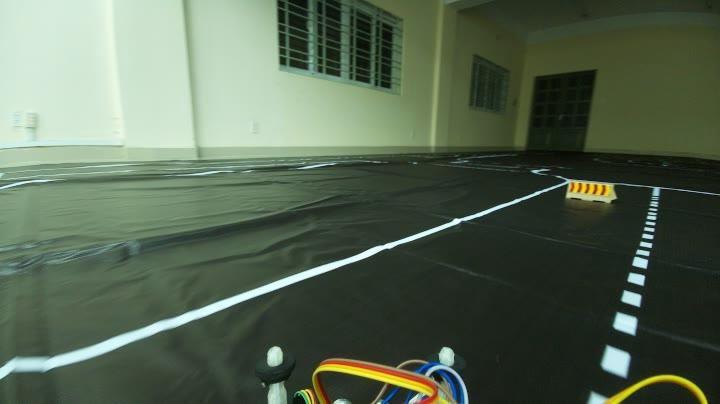roadblock: (562, 176, 619, 204)
